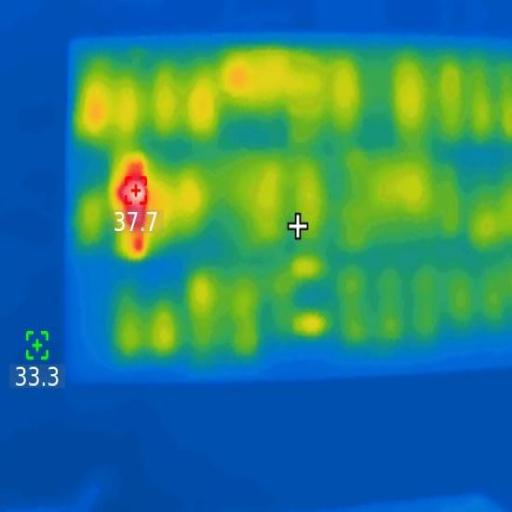hotspot: (116, 160, 149, 252)
